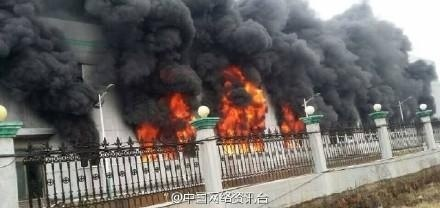fire: (217, 66, 266, 153), (134, 92, 195, 158), (278, 104, 304, 134)
